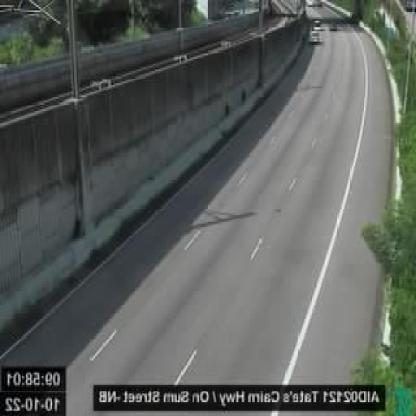Car: (310, 27, 320, 46)
